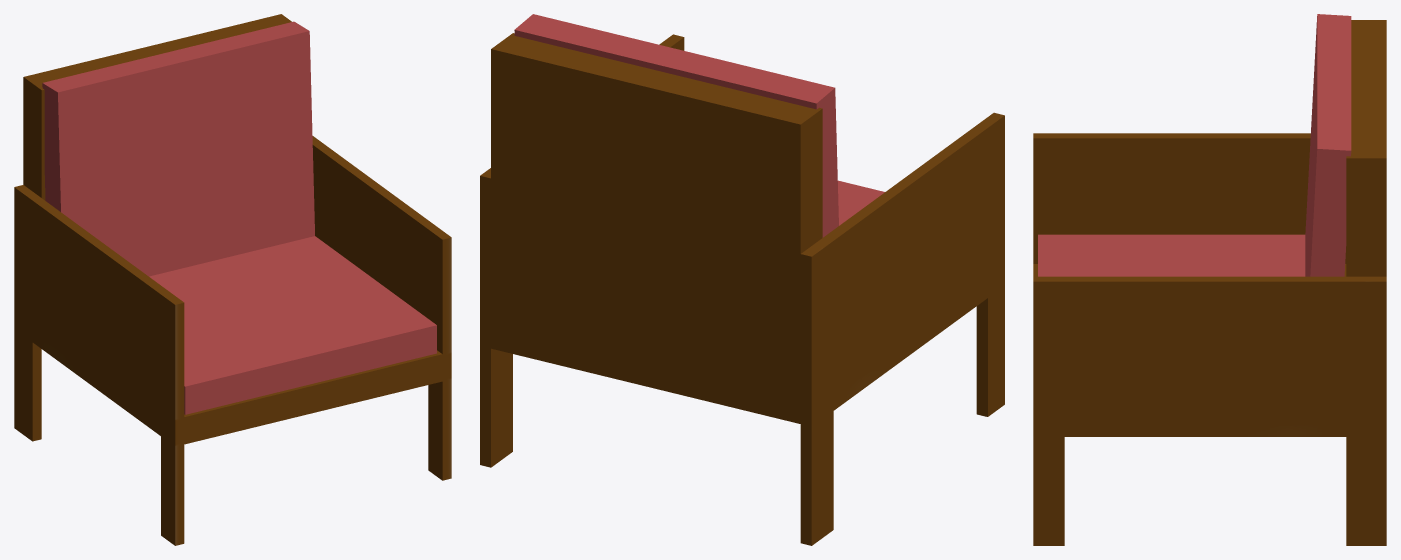
Rendered from Chair.fbx.
3 renders of one model, left to right at view 1: azimuth 30°, elevation 25°; view 2: azimuth 150°, elevation 25°; view 3: azimuth 270°, elevation 25°, orthographic. The views are drawn at different scales.
Visible parts, largest first — view 1: Couch_cusions.001, Chair; view 2: Chair, Couch_cusions.001; view 3: Chair, Couch_cusions.001.
Boxes of the visible parts, left/top/right/bottom form: Couch_cusions.001: left=42, top=21, right=436, bottom=414; Chair: left=14, top=14, right=451, bottom=545; Chair: left=480, top=33, right=1004, bottom=545; Couch_cusions.001: left=514, top=14, right=884, bottom=237; Chair: left=1033, top=20, right=1386, bottom=545; Couch_cusions.001: left=1038, top=14, right=1351, bottom=276.
Bounding box in the file's own units: 106 × 131 × 107.
